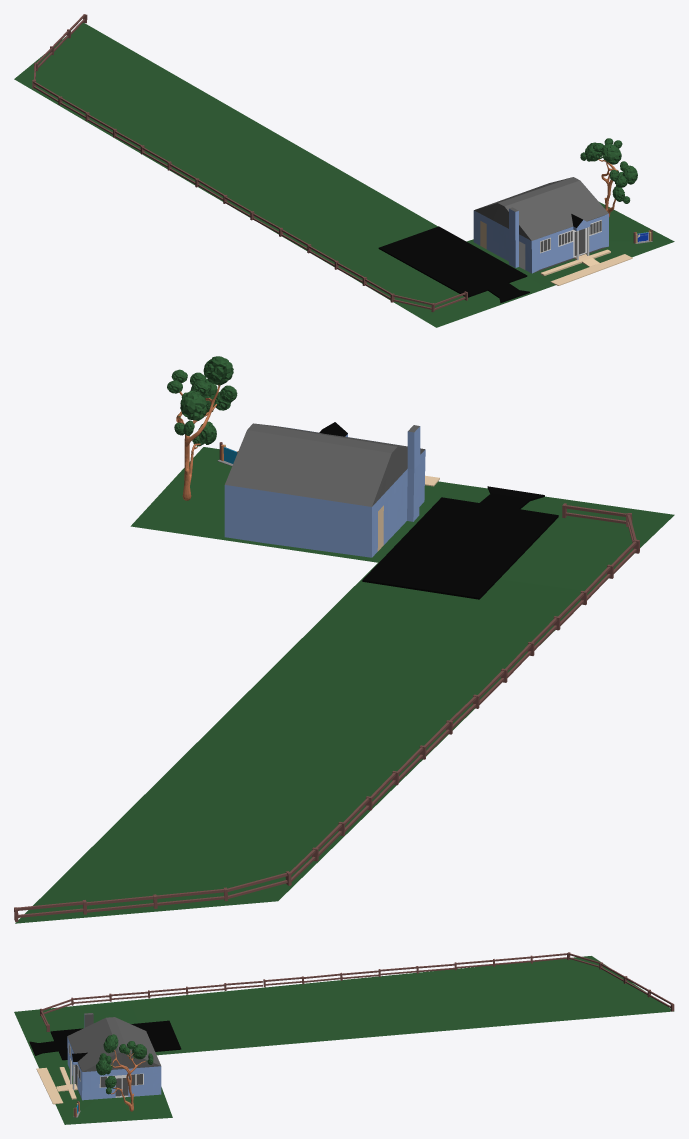
The model's file is isocapeclubhouse.glb.
3 views of the same model, one above another, from view 1: azimuth 30°, elevation 25°; view 2: azimuth 150°, elevation 25°; view 3: azimuth 270°, elevation 25° (orthographic). The views are drawn at different scales.
Parts seen in each view (by area): view 1: Pine_Plane.002; view 2: Pine_Plane.002; view 3: Pine_Plane.002.
Part boxes in pixels (left/top/right/bottom): Pine_Plane.002: left=14, top=14, right=674, bottom=327; Pine_Plane.002: left=14, top=356, right=674, bottom=923; Pine_Plane.002: left=14, top=952, right=674, bottom=1124.
Size of the model in its own units: 1.02 by 0.2373 by 1.92.
14 materials, 1 textured.
